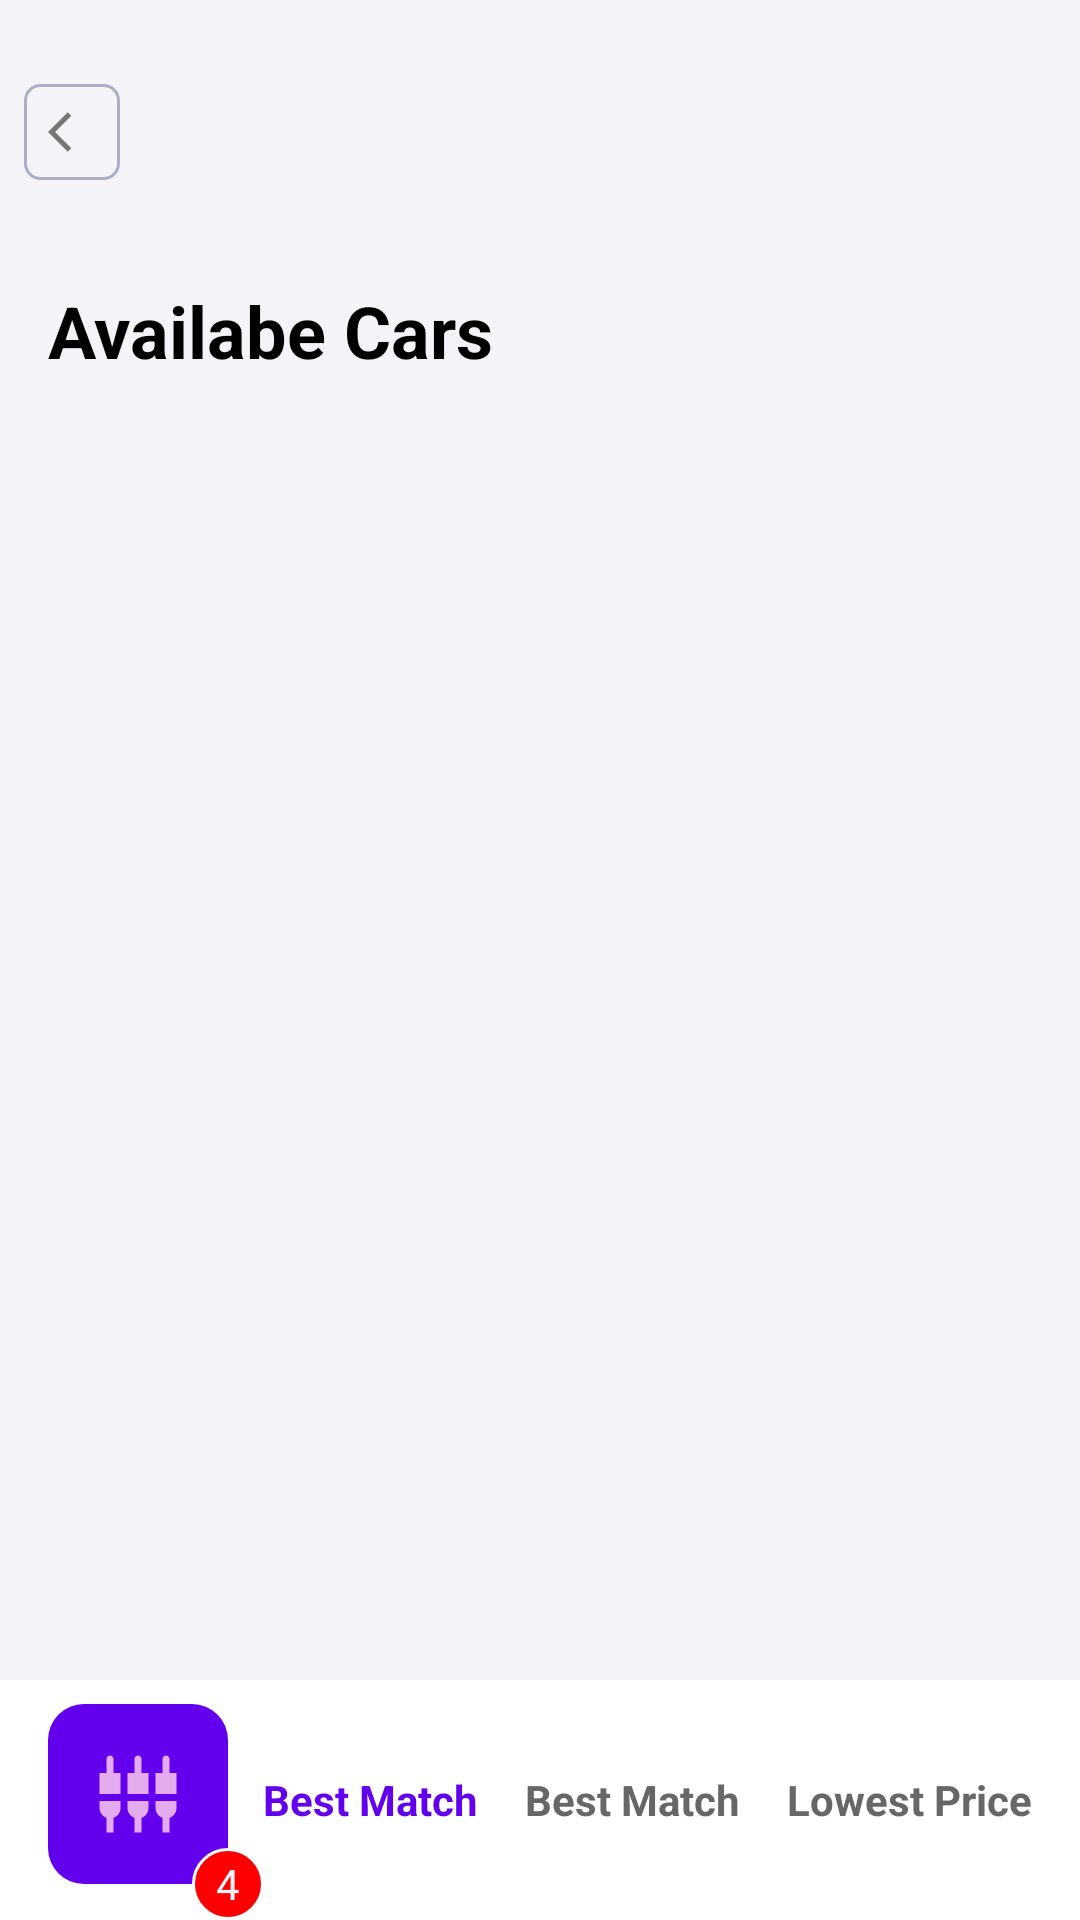

Icons on this 1080px×1920px Android screen, each with its box as {"left": x1, "top": y1, "right": x2, "bottom": y2}:
arrow back: {"left": 24, "top": 84, "right": 120, "bottom": 180}
settings input composite: {"left": 48, "top": 1704, "right": 228, "bottom": 1884}
